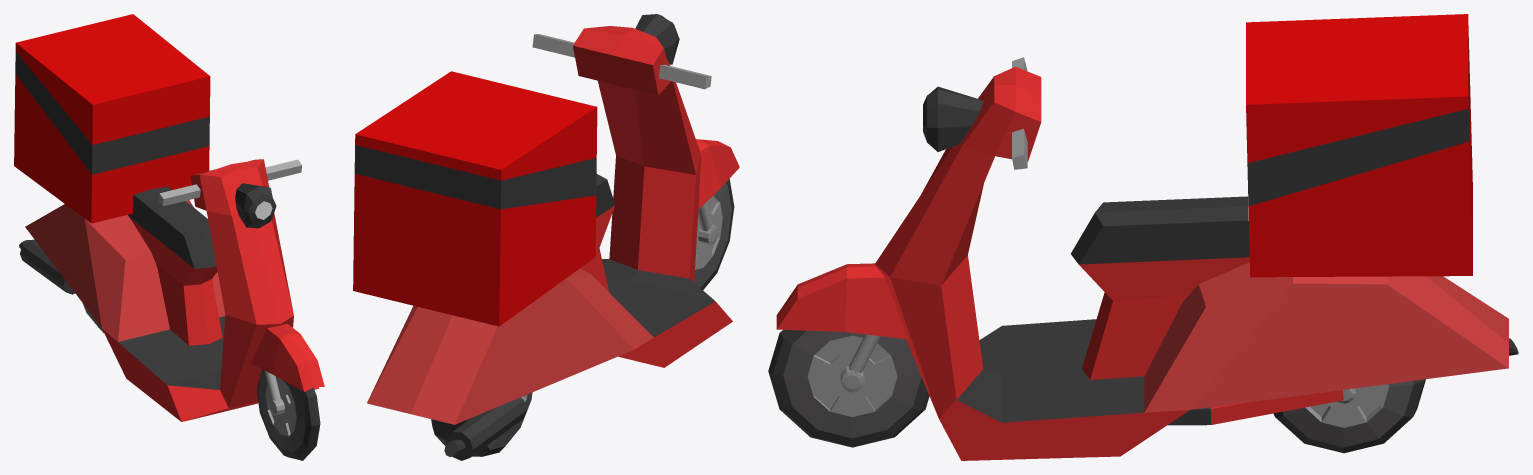
File: Vehi_Moped_001_Block.fbx
3 views of the same model, side by side, from view 1: azimuth 30°, elevation 25°; view 2: azimuth 150°, elevation 25°; view 3: azimuth 270°, elevation 25° (orthographic). The views are drawn at different scales.
Visible parts, largest first — view 1: moped_frame, deliverybox, Front_tie1, mud_geard, light, exhaust1; view 2: moped_frame, deliverybox, Front_tie1, exhaust1, mud_geard, light, Backtire1; view 3: moped_frame, deliverybox, Front_tie1, mud_geard, Backtire1, light.
Boxes of the visible parts, box(x1,y1,x2,y2) form: moped_frame: box(25, 159, 319, 421); deliverybox: box(14, 14, 210, 223); Front_tie1: box(257, 369, 320, 460); mud_geard: box(250, 323, 324, 391); light: box(235, 183, 276, 228); exhaust1: box(19, 239, 75, 294); moped_frame: box(367, 26, 732, 424); deliverybox: box(353, 71, 597, 326); Front_tie1: box(694, 179, 734, 289); exhaust1: box(444, 397, 526, 460); mud_geard: box(696, 139, 739, 209); light: box(635, 14, 679, 64); Backtire1: box(431, 392, 532, 456); moped_frame: box(875, 57, 1508, 460); deliverybox: box(1246, 14, 1472, 277); Front_tie1: box(768, 330, 929, 447); mud_geard: box(776, 263, 907, 339); Backtire1: box(1273, 379, 1425, 453); light: box(923, 86, 983, 151).
Size of the model in its own units: 0.5291 by 0.9942 by 1.72.
